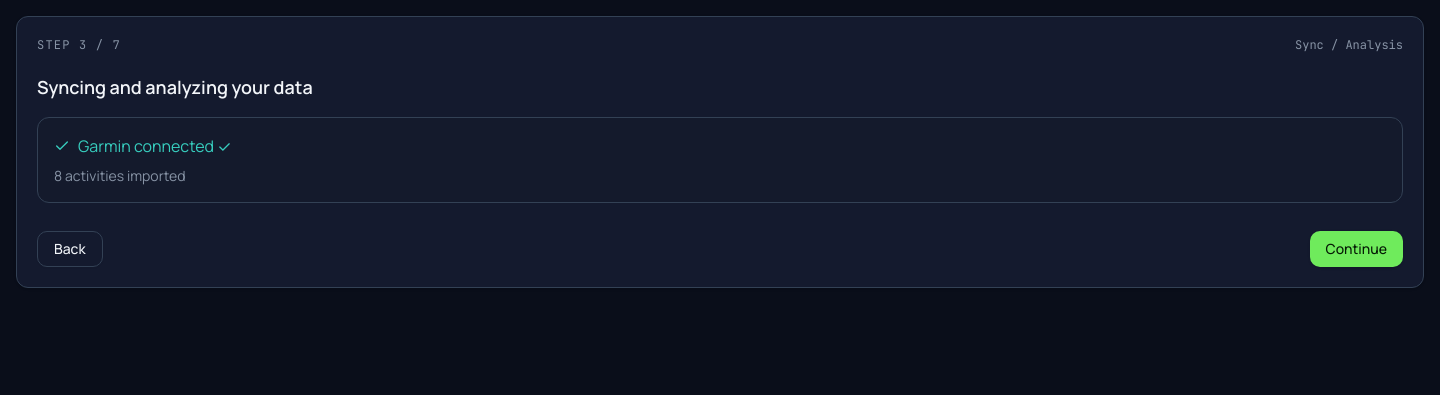
Test case: Onboarding trial handoff › free users do not see a false trial status on the final step
Earlier steps of the test are not shown.
Expected: the element with test id "onboarding-step-sync" is shown, [37,73,1403,203]
Step 1. Click the button with test id "onboarding-continue" → (1356, 249), box [1310,231,1403,267]
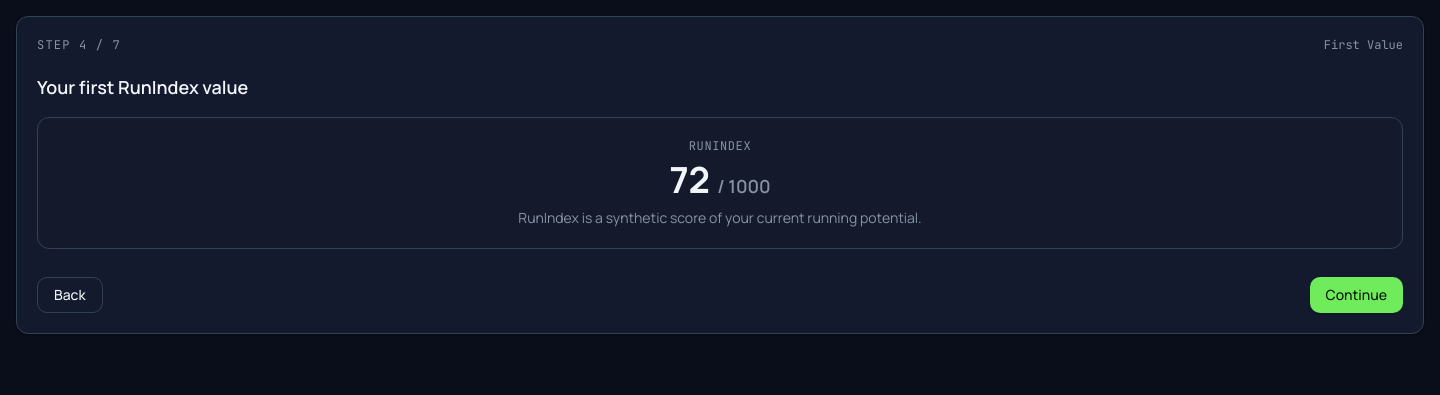
Expected: the element with test id "onboarding-step-first-value" is shown, [37,73,1403,249]
Step 2. Click the button with test id "onboarding-continue" → (1356, 295), box [1310,277,1403,313]
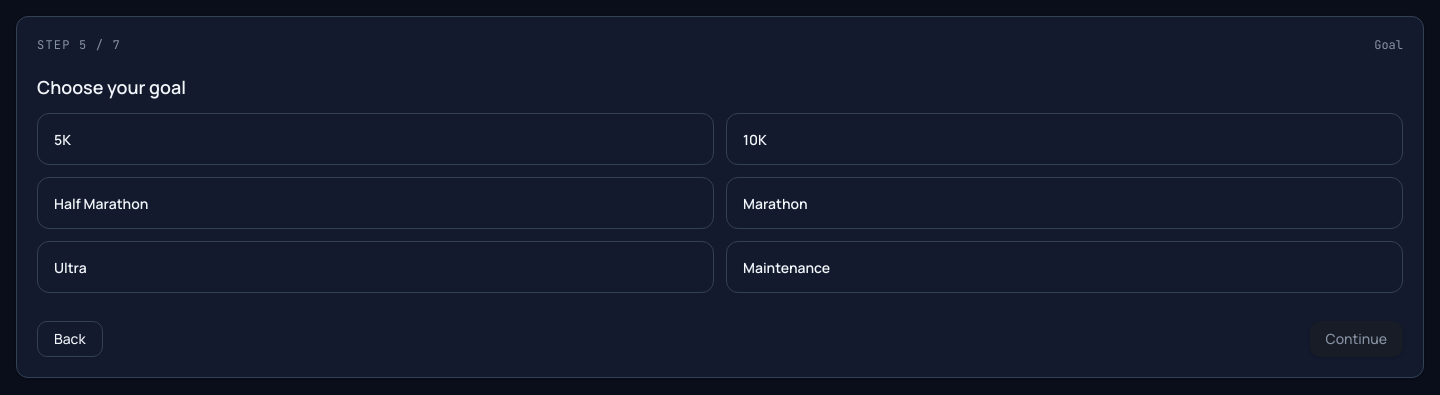
Expected: the element with test id "onboarding-step-goal" is shown, [37,73,1403,293]
Step 3. Click the button with test id "onboarding-goal-5k" → (62, 140), box [37,113,714,165]
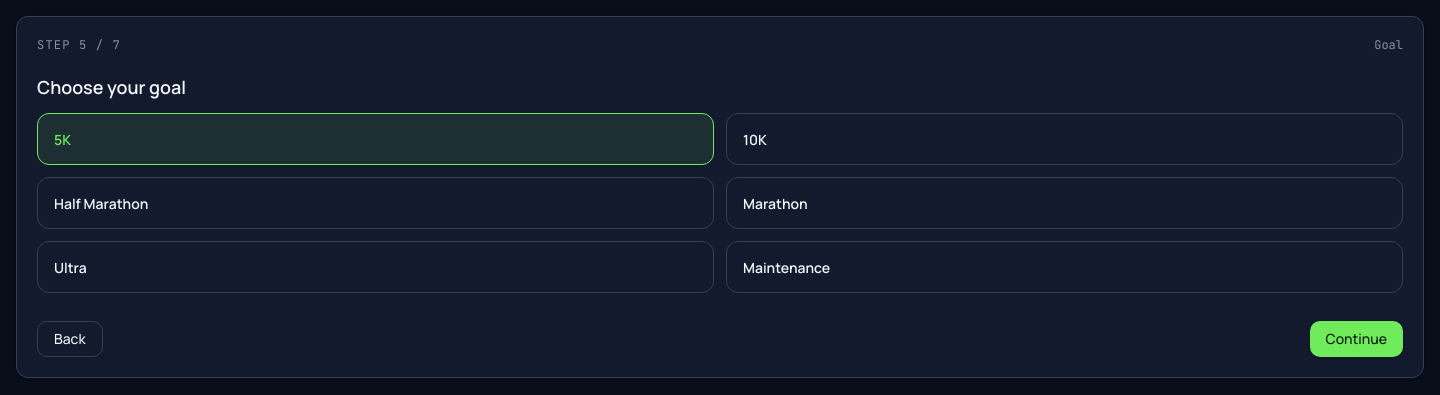
Step 4. Click the button with test id "onboarding-continue" → (1356, 339), box [1310,321,1403,357]
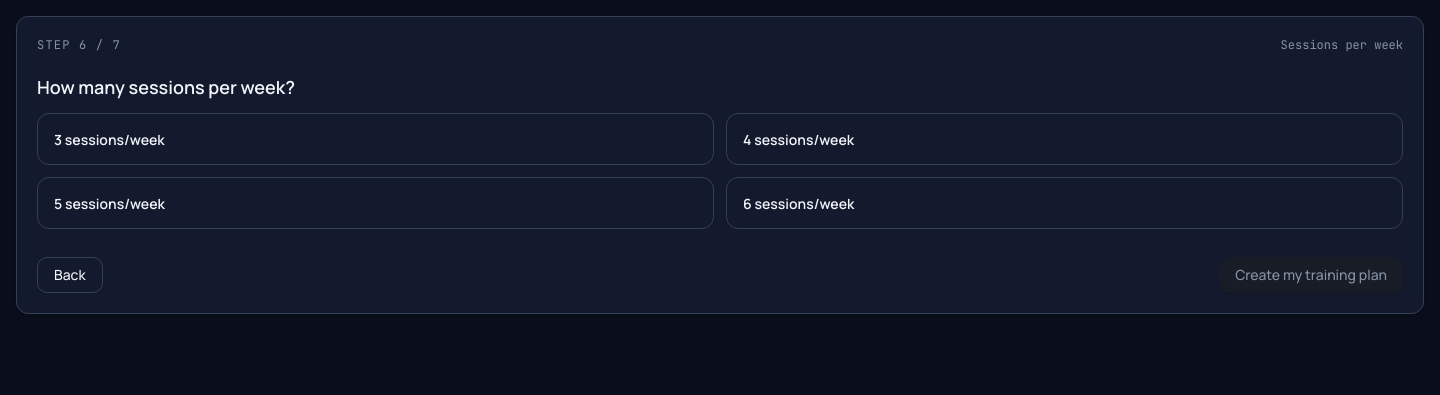
Expected: the element with test id "onboarding-step-sessions" is shown, [37,73,1403,229]
Step 5. Click the button with test id "onboarding-sessions-3" → (109, 140), box [37,113,714,165]
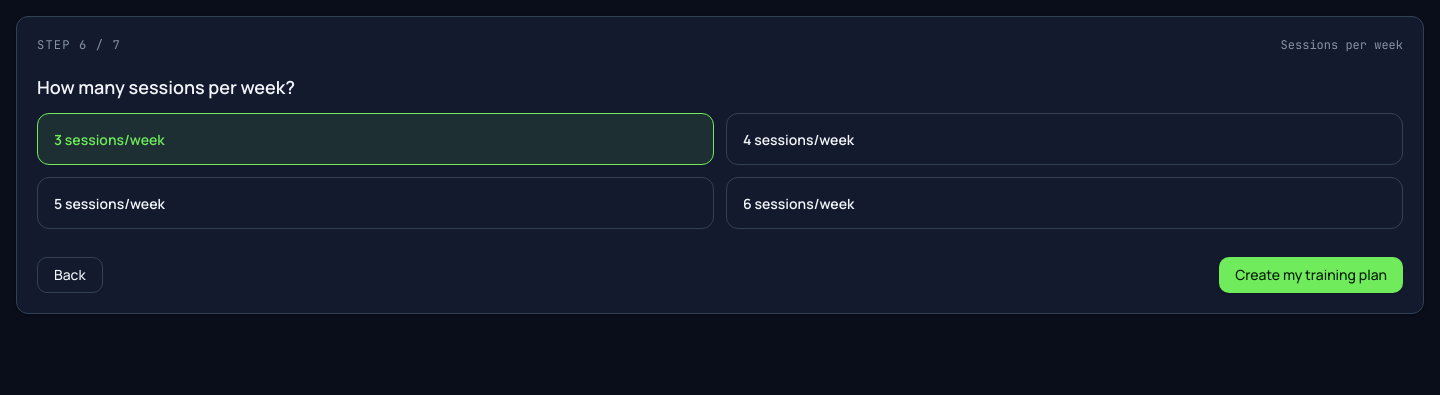
Step 6. Click the button with test id "onboarding-continue" → (1311, 275), box [1219,257,1403,293]
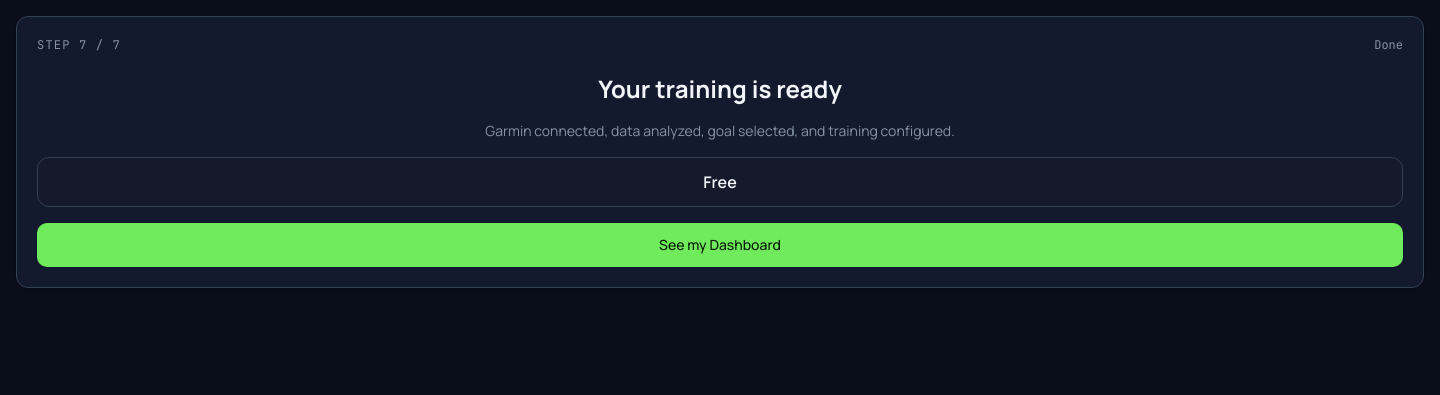
Expected: the text with test id "onboarding-subscription-status" does not show "Trial", [37,157,1403,207]
Expected: the element with test id "onboarding-step-done" is shown, [37,73,1403,267]
Expected: the text with test id "onboarding-subscription-status" reads "Free", [703,171,737,193]
